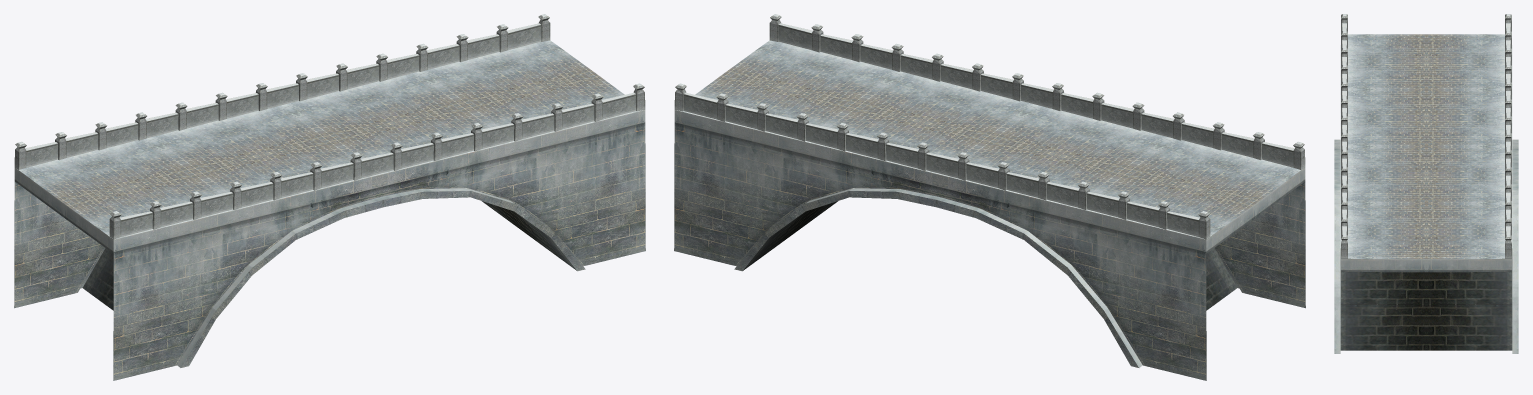
The model's file is whitdragonvalley_bridge.fbx.
3 views of the same model, side by side, from view 1: azimuth 30°, elevation 25°; view 2: azimuth 150°, elevation 25°; view 3: azimuth 270°, elevation 25° (orthographic). The views are drawn at different scales.
Visible parts, largest first — view 1: a1-022-10m-bridge; view 2: a1-022-10m-bridge; view 3: a1-022-10m-bridge.
Part boxes in pixels (x1=…): a1-022-10m-bridge: x1=14, y1=14, x2=645, y2=380; a1-022-10m-bridge: x1=674, y1=14, x2=1305, y2=380; a1-022-10m-bridge: x1=1334, y1=14, x2=1518, y2=353.
Size of the model in its own units: 39.46 by 11.76 by 13.69.
